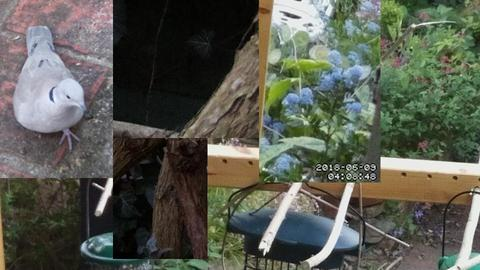collared dove: (12, 25, 88, 153)
